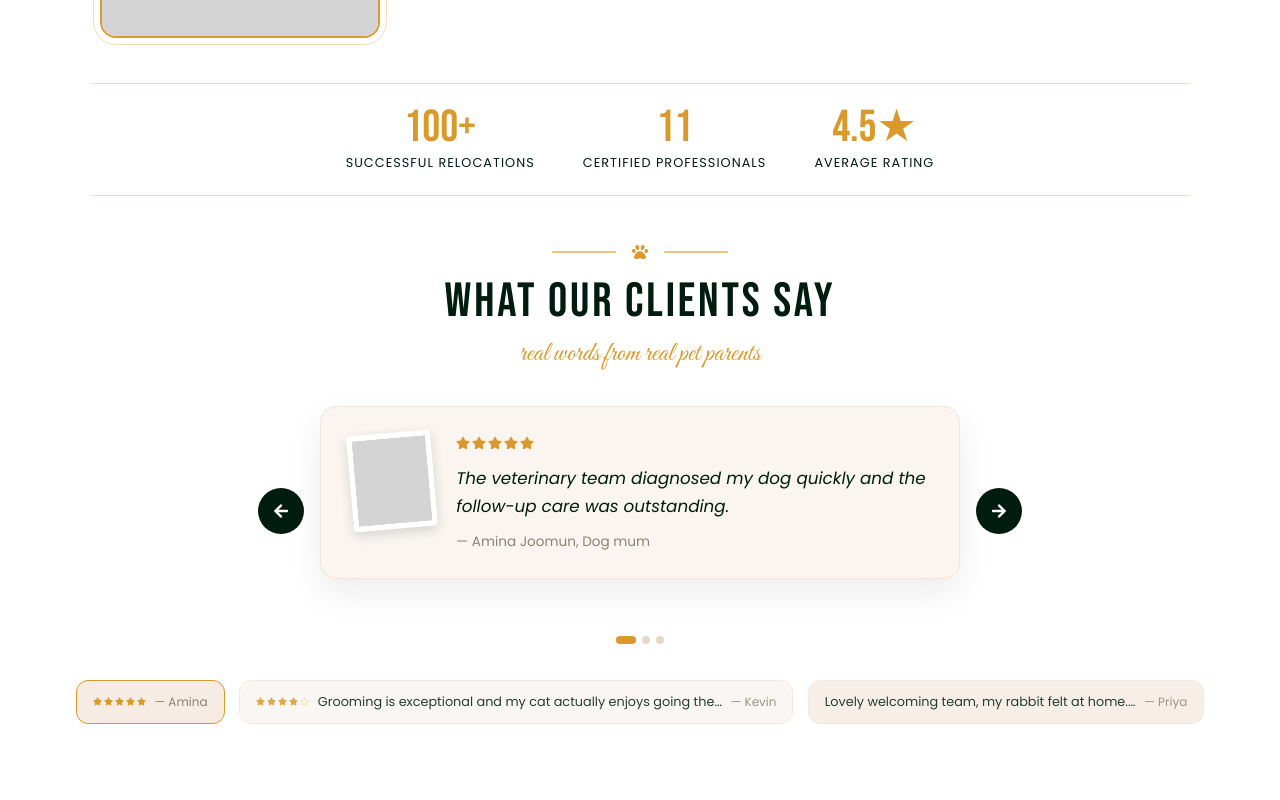
Test case: StatsSection (trust story band) › clicking a marquee chip features that testimonial and marks it pressed
(page scrolled)
Expected: the text "follow-up care was outstanding" is shown, left=456, top=466, right=926, bottom=518
Click the button "Kevin" at (516, 702), box left=239, top=680, right=794, bottom=724
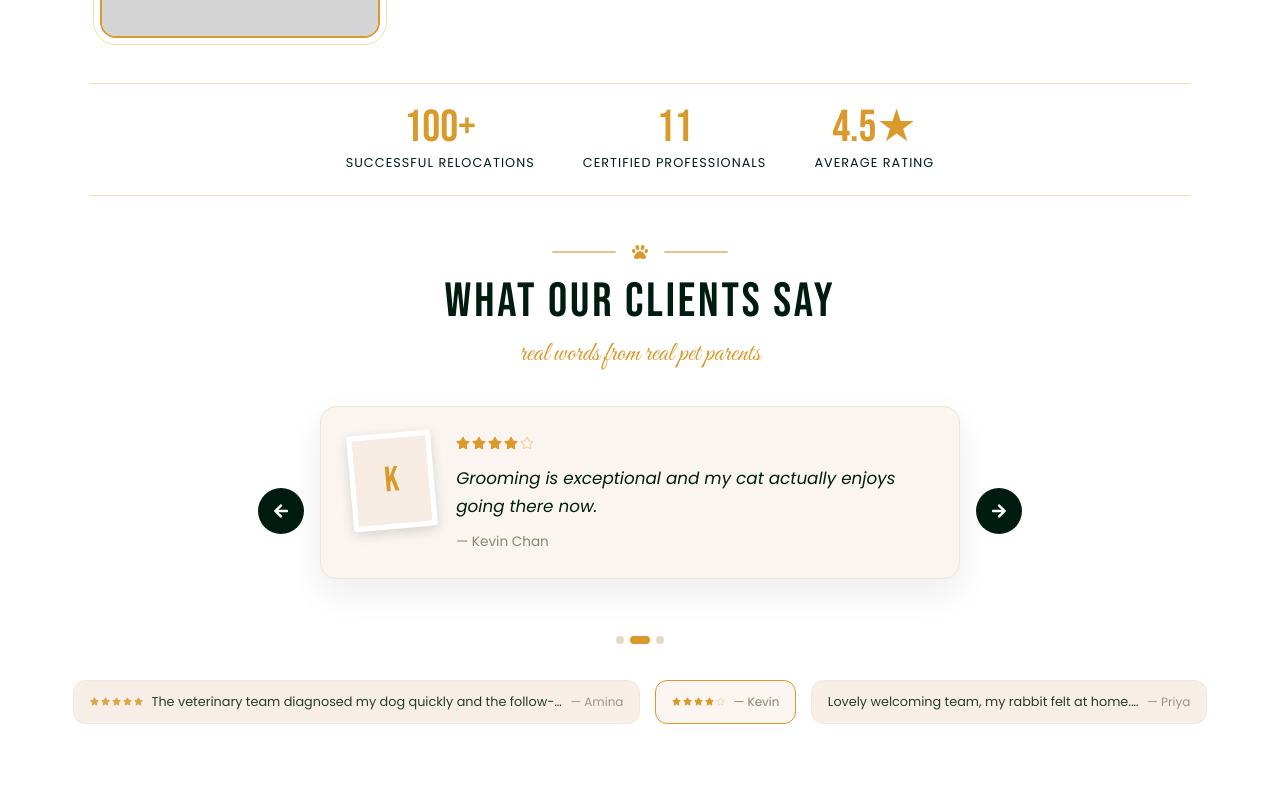
Now the text "enjoys going there now" is shown, box left=456, top=466, right=896, bottom=518
